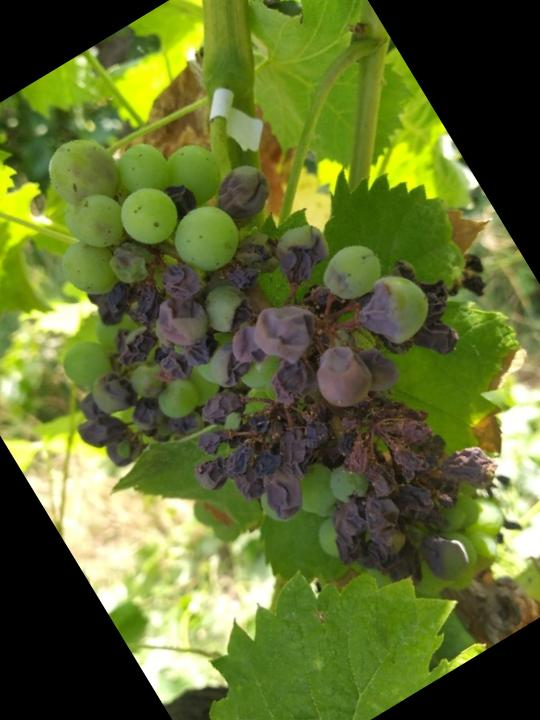grape: (0, 8, 540, 720)
